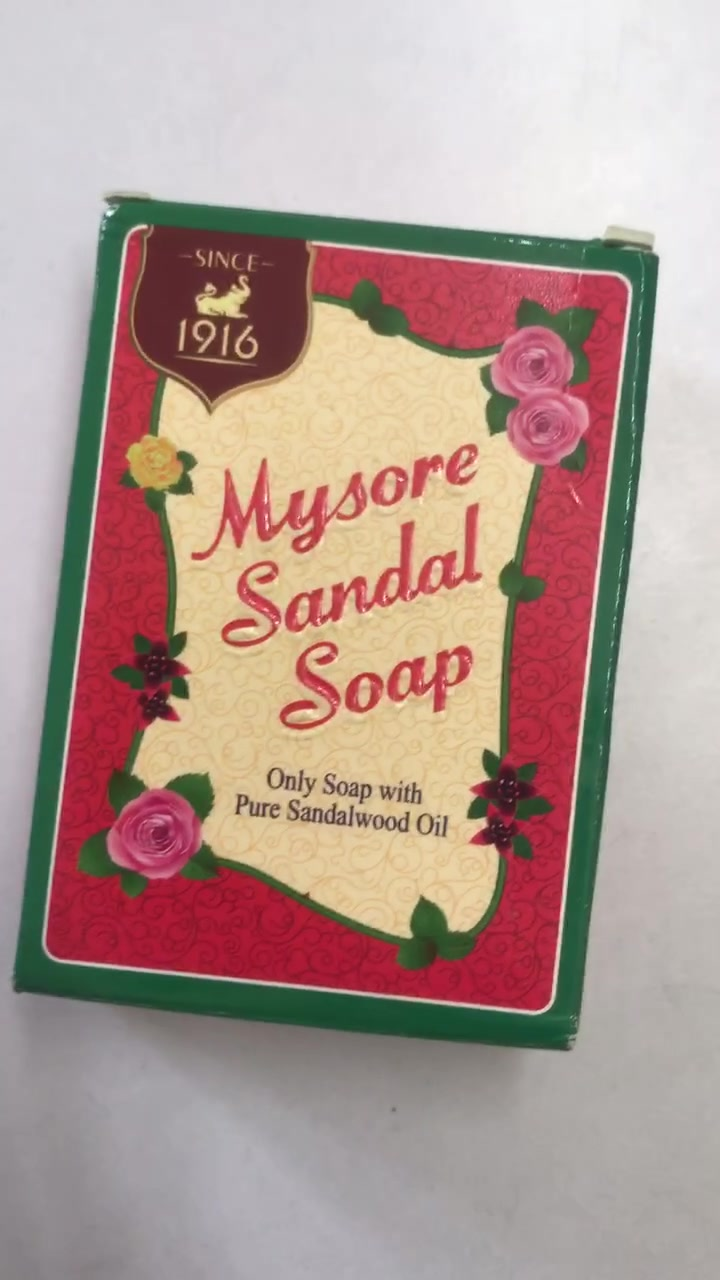mysore sandal soap: (20, 202, 651, 1043)
